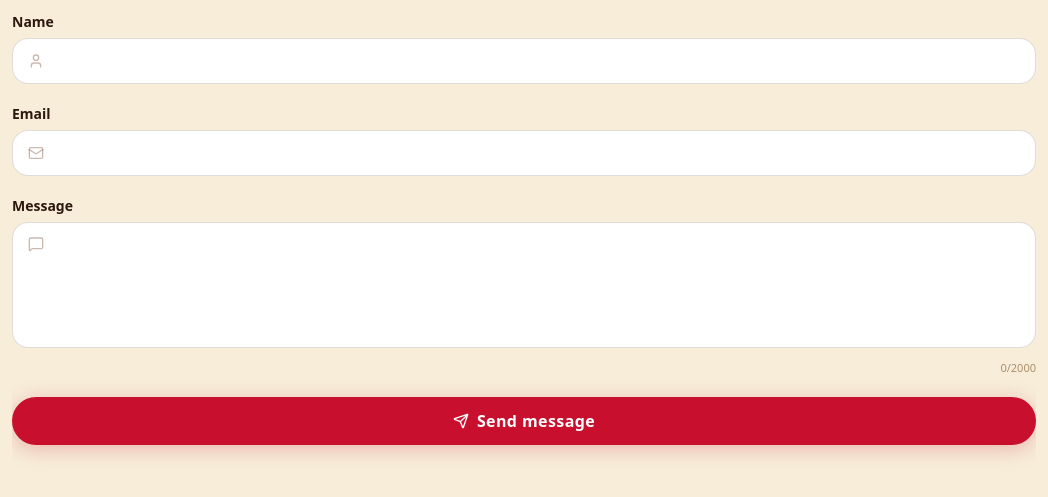
ContactForm › rejects a malformed email address without hitting the server
Step 1. Type "Jane Doe" into the field labelled "Name" → (524, 61), box x1=12 y1=38 x2=1036 y2=84
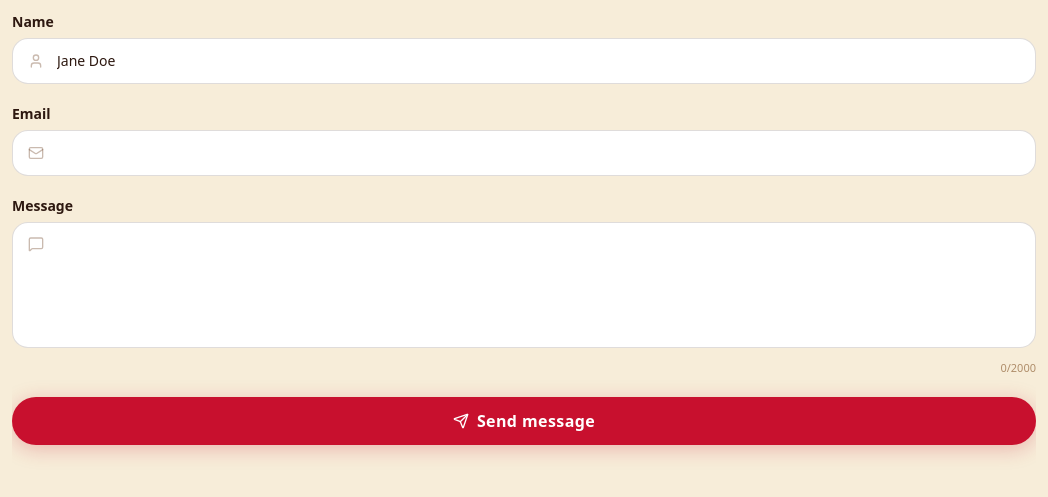
Step 2. Type "not-an-email" into the field labelled "Email" → (524, 153), box x1=12 y1=130 x2=1036 y2=176
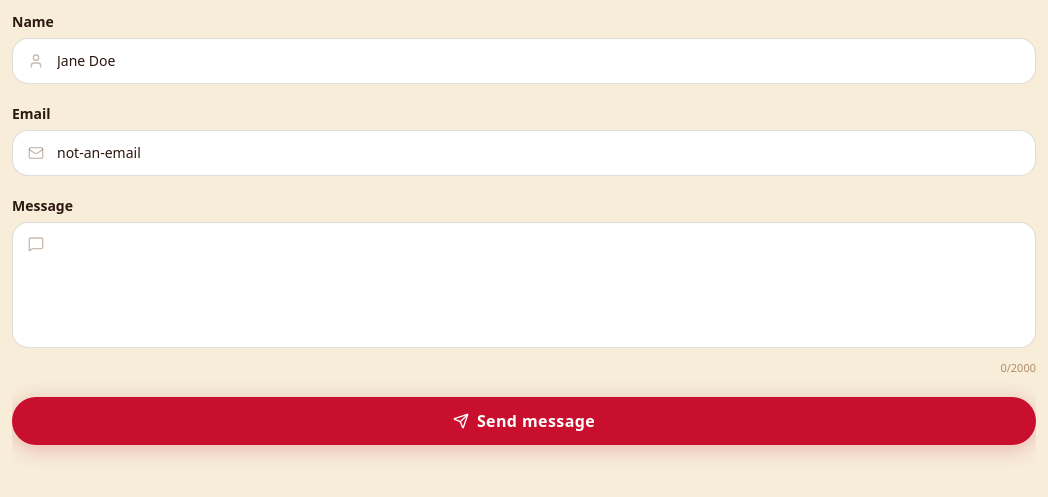
Step 3. Type "Hello there." into the text box labelled "Message" → (524, 285), box x1=12 y1=222 x2=1036 y2=348
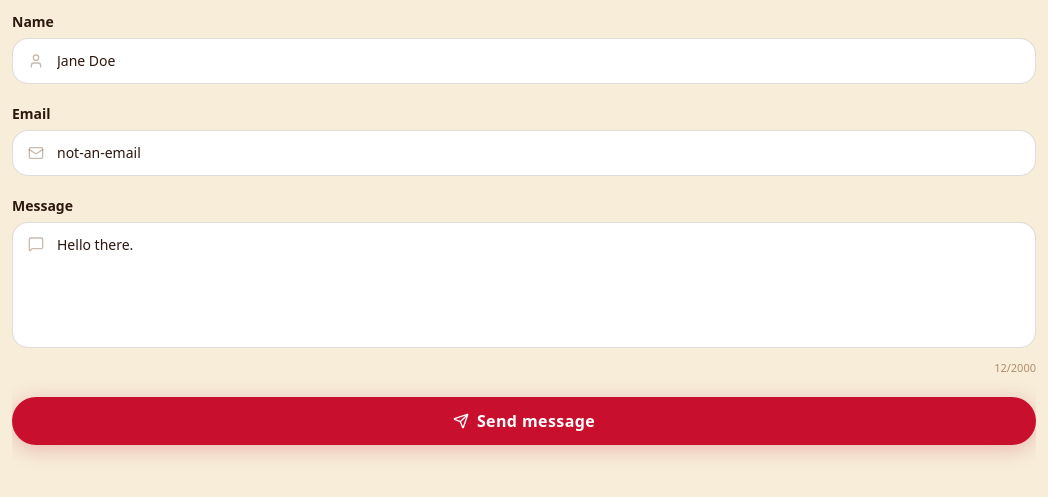
Step 4. Click the button "Send message" → (524, 420), box x1=12 y1=396 x2=1036 y2=444
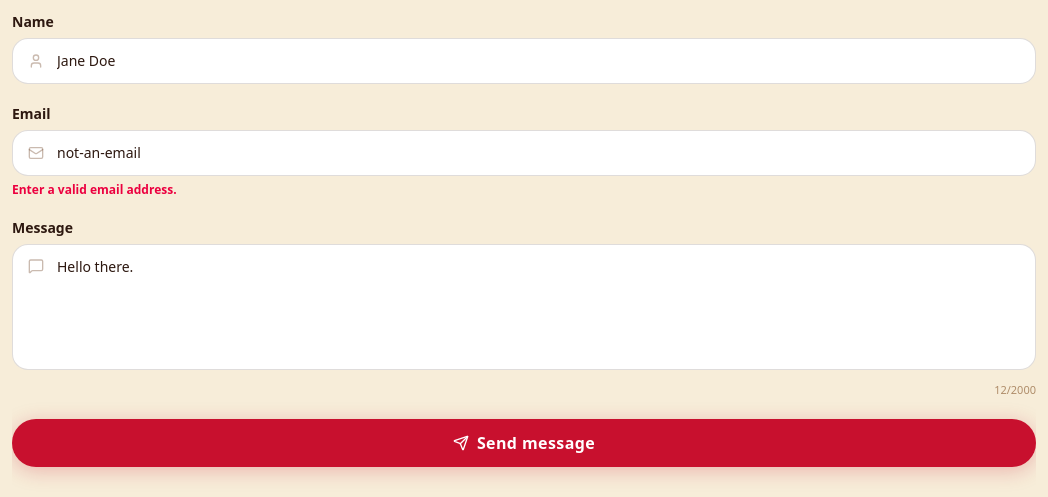
Check: the text "Enter a valid email address." is shown, box x1=12 y1=181 x2=177 y2=198
